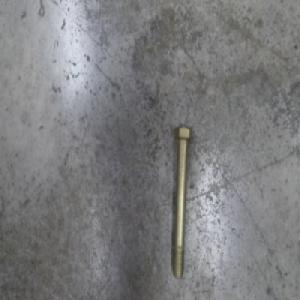Bolt: (171, 124, 193, 281)
